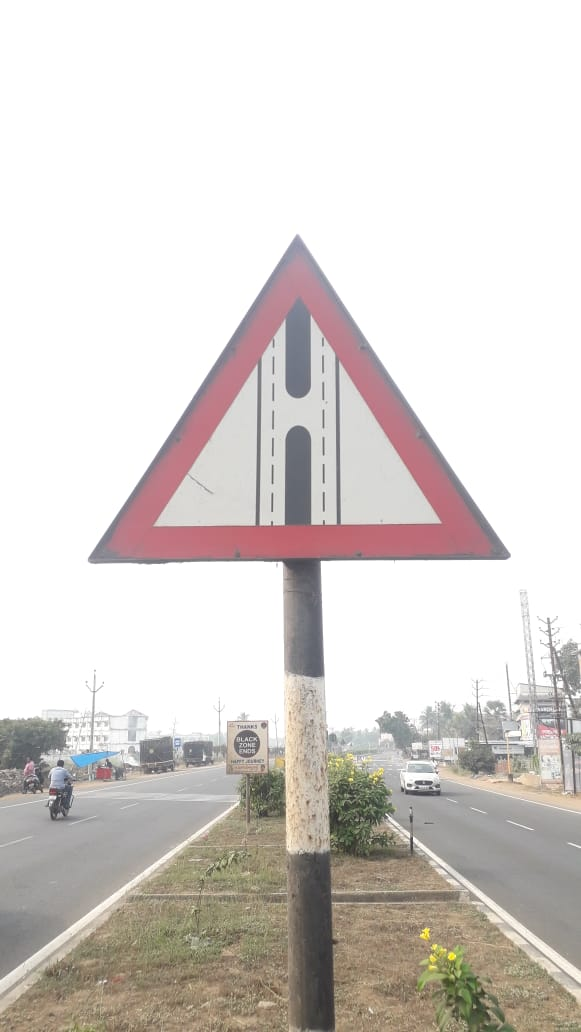highway go straight: (84, 220, 546, 637)
